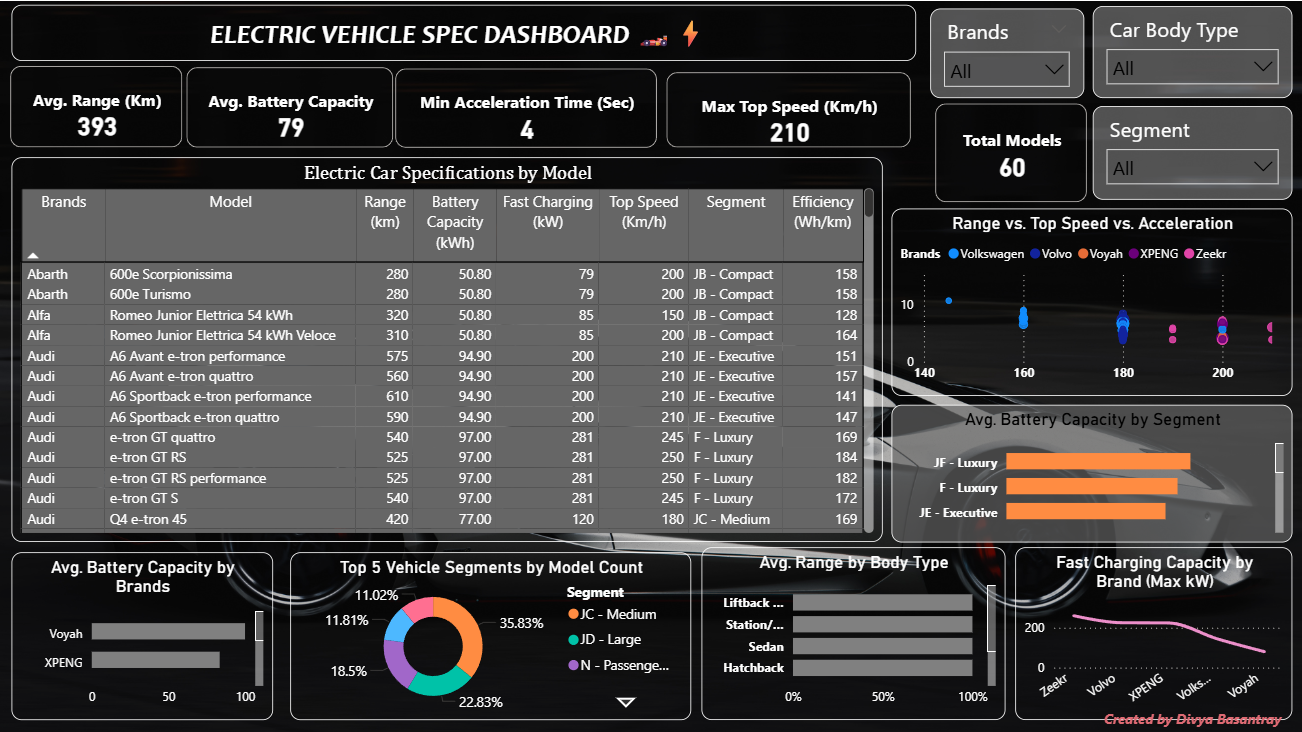

What the dashboard file says about the page in this screenshot:
{"tool":"powerbi","page":{"name":"Page 1","canvas":[1280,720],"ordinal":0},"visuals":[{"type":"cardVisual","fields":{"Data":["Electric Vehicles Specs.Average Range"]},"box":[6.1,58.9,179.1,90.8],"z":0},{"type":"barChart","title":"Avg. Battery Capacity by Brands","fields":{"Category":["Electric Vehicle Spec Dashboard – 2025 Overview.Brands"],"Y":["Electric Vehicle Spec Dashboard – 2025 Overview.Average Battery Capacity"]},"box":[12.3,541.1,256.4,164.4],"z":1000},{"type":"scatterChart","title":"Range vs. Top Speed vs. Acceleration","fields":{"Y":["Electric Vehicle Spec Dashboard – 2025 Overview.0-100 Acceleration (s)"],"X":["Electric Vehicle Spec Dashboard – 2025 Overview.Top Speed (Km/h)"],"Series":["Electric Vehicle Spec Dashboard – 2025 Overview.Brands"],"Size":["Sum(Electric Vehicle Spec Dashboard – 2025 Overview.Range (km))"]},"box":[877.3,182.8,393.9,184.1],"z":2000},{"type":"lineChart","title":"Fast Charging Capacity by Brand (Max kW)","fields":{"Category":["Electric Vehicles Specs.Brands"],"Y":["Max(Electric Vehicle Spec Dashboard – 2025 Overview.Fast Charging Power (kW))"]},"box":[997.6,520.2,272.4,170.6],"z":3000},{"type":"hundredPercentStackedBarChart","title":"Avg. Range by Body Type","fields":{"Category":["Electric Vehicle Spec Dashboard – 2025 Overview.Car Body Type"],"Y":["Electric Vehicle Spec Dashboard – 2025 Overview.Average Range (Km)"]},"box":[689.6,536.2,298.2,169.3],"z":4000},{"type":"clusteredBarChart","title":"Avg. Battery Capacity by Segment","fields":{"Category":["Electric Vehicles Specs.Segment"],"Y":["Electric Vehicle Spec Dashboard – 2025 Overview.Average Battery Capacity"]},"box":[876.1,376.7,393.9,135],"z":5000},{"type":"donutChart","title":"Top 5 Vehicle Segments by Model Count","fields":{"Category":["Electric Vehicle Spec Dashboard – 2025 Overview.Segment"],"Y":["Count(Electric Vehicle Spec Dashboard – 2025 Overview.Model)"]},"box":[277.3,541.1,402.5,164.4],"z":6000},{"type":"cardVisual","fields":{"Data":["Electric Vehicles Specs.Average Battery Capacity"]},"box":[179.1,60.1,213.5,89.6],"z":7000},{"type":"cardVisual","fields":{"Data":["Electric Vehicles Specs.Max Top Speed"]},"box":[650.3,65,250.3,84.7],"z":8000},{"type":"slicer","fields":{"Values":["Electric Vehicles Specs.Brands"]},"box":[914.1,7.4,150.9,88.3],"z":9000},{"type":"slicer","fields":{"Values":["Electric Vehicle Spec Dashboard – 2025 Overview.Car Body Type"]},"box":[1073.6,4.9,196.3,82.2],"z":10000},{"type":"slicer","fields":{"Values":["Electric Vehicle Spec Dashboard – 2025 Overview.Segment"]},"box":[1073.6,95.7,196.3,79.8],"z":11000},{"type":"tableEx","title":"Electric Car Specifications by Model","fields":{"Values":["Electric Vehicles Specs.Brands","Electric Vehicle Spec Dashboard – 2025 Overview.Model","Electric Vehicle Spec Dashboard – 2025 Overview.Range (km)","Electric Vehicle Spec Dashboard – 2025 Overview.Battery Capacity (kWh)","Electric Vehicle Spec Dashboard – 2025 Overview.Fast Charging Power (kW)","Electric Vehicle Spec Dashboard – 2025 Overview.Top Speed (Km/h)","Electric Vehicle Spec Dashboard – 2025 Overview.Segment","Electric Vehicle Spec Dashboard – 2025 Overview.Efficiency (Wh/km)"]},"box":[12.3,153.4,855.2,377.9],"z":12000},{"type":"textbox","box":[12.3,3.7,888.3,55.2],"z":13000},{"type":"cardVisual","fields":{"Data":["Electric Vehicle Spec Dashboard – 2025 Overview.Min Acceleration"]},"box":[384.1,61.4,267.5,88.3],"z":14000},{"type":"cardVisual","fields":{"Data":["Electric Vehicle Spec Dashboard – 2025 Overview.Total Models"]},"box":[914.1,95.7,159.5,87.1],"z":15000},{"type":"textbox","box":[1079.8,690.8,190.2,29.4],"z":16000}]}

Visuals, with their boxes in screenshot pixels (x1, y1, x2, y2), scaled from the page's 1280x720 canvas onto the 1302x732 screenshot:
cardVisual - Electric Vehicles Specs.Average Range: BBox(6, 60, 188, 152)
"Avg. Battery Capacity by Brands" barChart: BBox(13, 550, 273, 717)
"Range vs. Top Speed vs. Acceleration" scatterChart: BBox(892, 186, 1293, 373)
"Fast Charging Capacity by Brand (Max kW)" lineChart: BBox(1015, 529, 1292, 702)
"Avg. Range by Body Type" hundredPercentStackedBarChart: BBox(701, 545, 1005, 717)
"Avg. Battery Capacity by Segment" clusteredBarChart: BBox(891, 383, 1292, 520)
"Top 5 Vehicle Segments by Model Count" donutChart: BBox(282, 550, 691, 717)
cardVisual - Electric Vehicles Specs.Average Battery Capacity: BBox(182, 61, 399, 152)
cardVisual - Electric Vehicles Specs.Max Top Speed: BBox(661, 66, 916, 152)
slicer - Electric Vehicles Specs.Brands: BBox(930, 8, 1083, 97)
slicer - Electric Vehicle Spec Dashboard – 2025 Overview.Car Body Type: BBox(1092, 5, 1292, 89)
slicer - Electric Vehicle Spec Dashboard – 2025 Overview.Segment: BBox(1092, 97, 1292, 178)
"Electric Car Specifications by Model" tableEx: BBox(13, 156, 882, 540)
textbox: BBox(13, 4, 916, 60)
cardVisual - Electric Vehicle Spec Dashboard – 2025 Overview.Min Acceleration: BBox(391, 62, 663, 152)
cardVisual - Electric Vehicle Spec Dashboard – 2025 Overview.Total Models: BBox(930, 97, 1092, 186)
textbox: BBox(1098, 702, 1292, 731)
